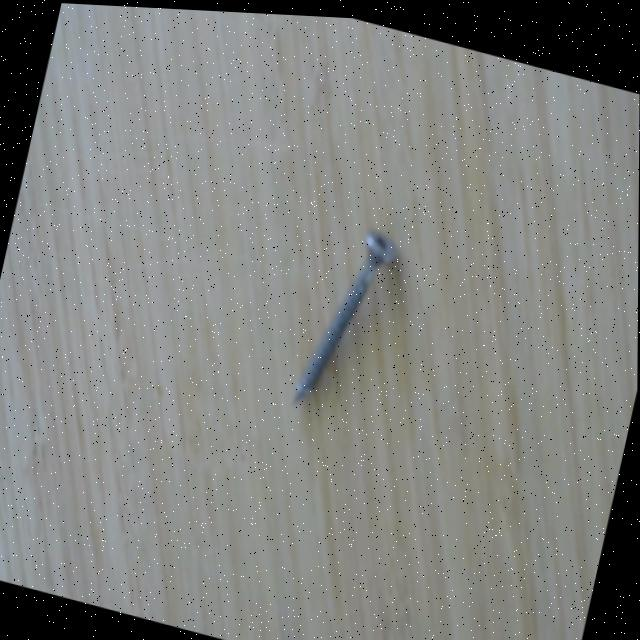Black screw: (288, 197, 405, 430)
